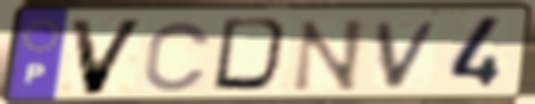4: (444, 13, 511, 95)
C: (141, 19, 215, 94)
D: (208, 16, 297, 96)
N: (288, 17, 368, 94)
V: (66, 17, 150, 98), (372, 18, 445, 91)
